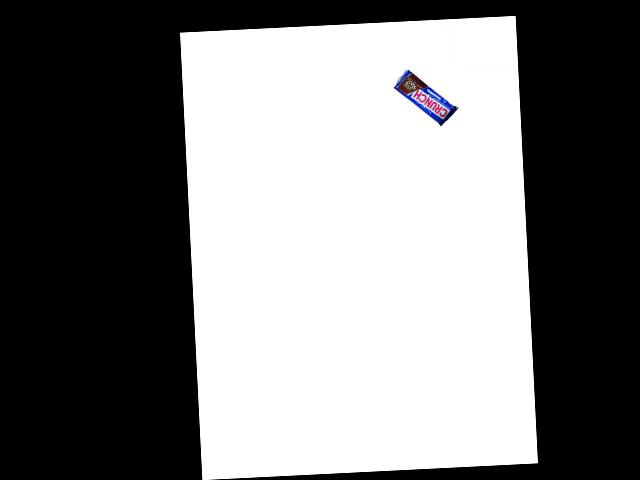chocolate: (391, 66, 460, 129)
